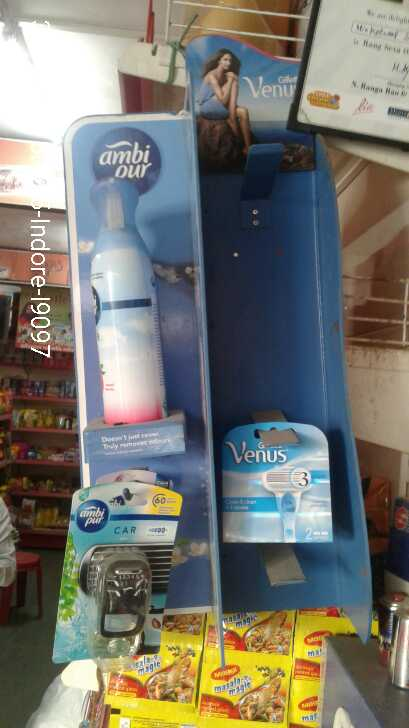beauty: (218, 425, 333, 543)
home: (85, 185, 172, 432), (69, 486, 169, 665)
